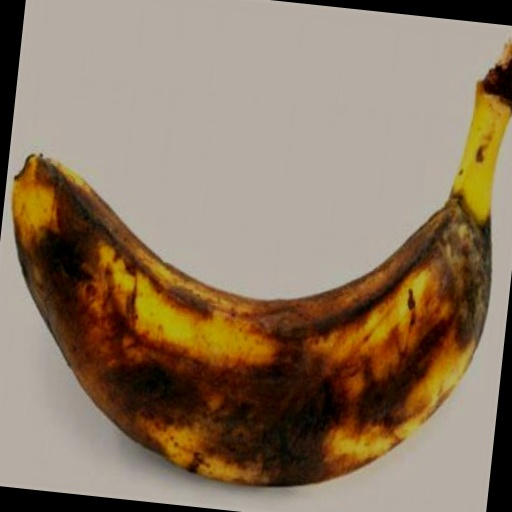fruit: (502, 51, 512, 138)
